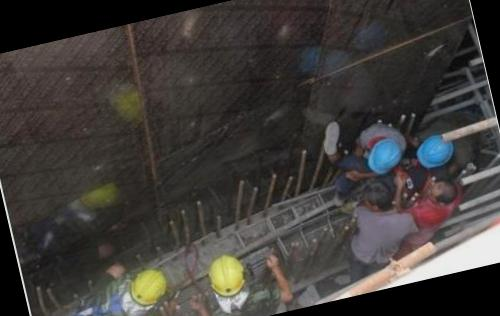no_helmet: (352, 176, 402, 220), (420, 172, 466, 212)
